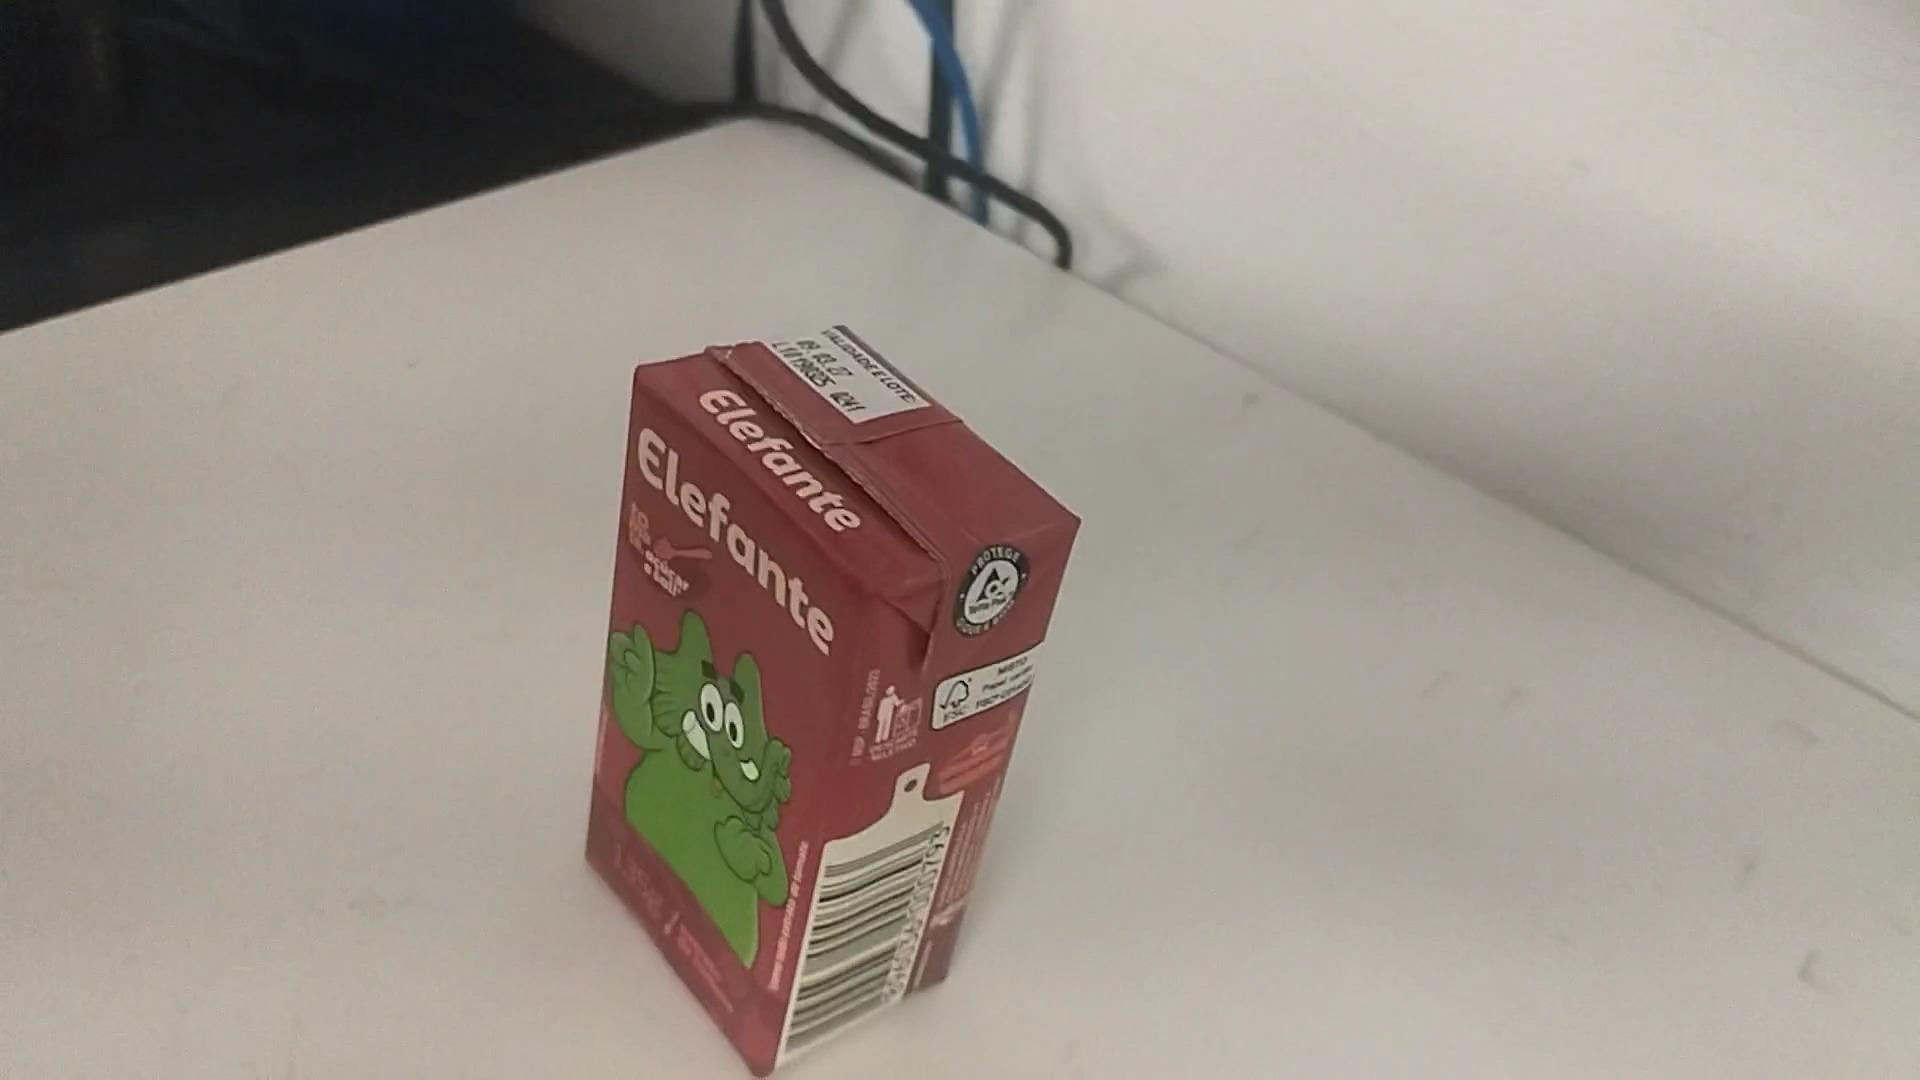tomate: (582, 307, 1092, 1067)
